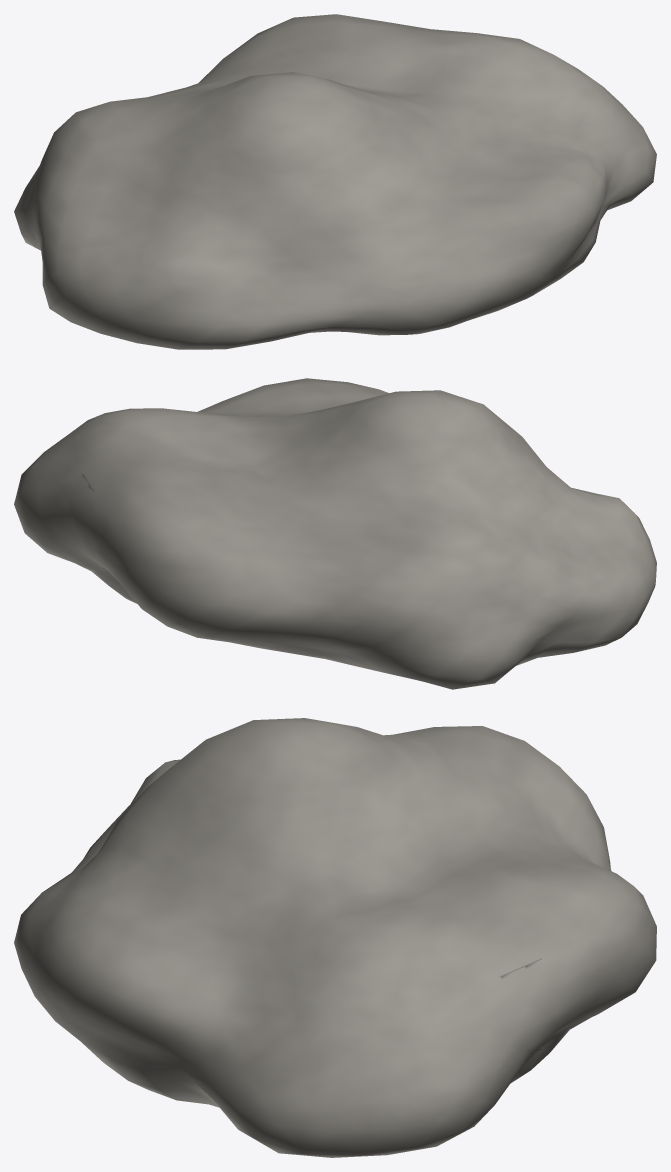
The model's file is rock_fieldstone_low.glb.
3 renders of one model, top to bottom at view 1: azimuth 30°, elevation 25°; view 2: azimuth 150°, elevation 25°; view 3: azimuth 270°, elevation 25°, orthographic. The views are drawn at different scales.
Visible parts, largest first — view 1: rock_fieldstone_low; view 2: rock_fieldstone_low; view 3: rock_fieldstone_low.
Part boxes in pixels (box(x1,y1,x2,y2)): rock_fieldstone_low: box(14, 14, 656, 349); rock_fieldstone_low: box(14, 378, 656, 689); rock_fieldstone_low: box(14, 718, 656, 1157).
Size of the model in its own units: 1.04 by 0.3082 by 0.8022.
1 material, 1 textured.
